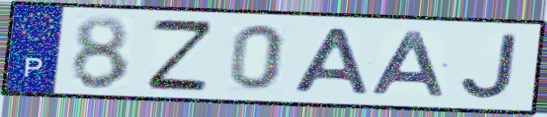0: (227, 21, 288, 94)
8: (67, 13, 137, 91)
A: (288, 25, 372, 97), (367, 30, 449, 99)
J: (457, 32, 522, 102)
Z: (144, 17, 216, 92)
